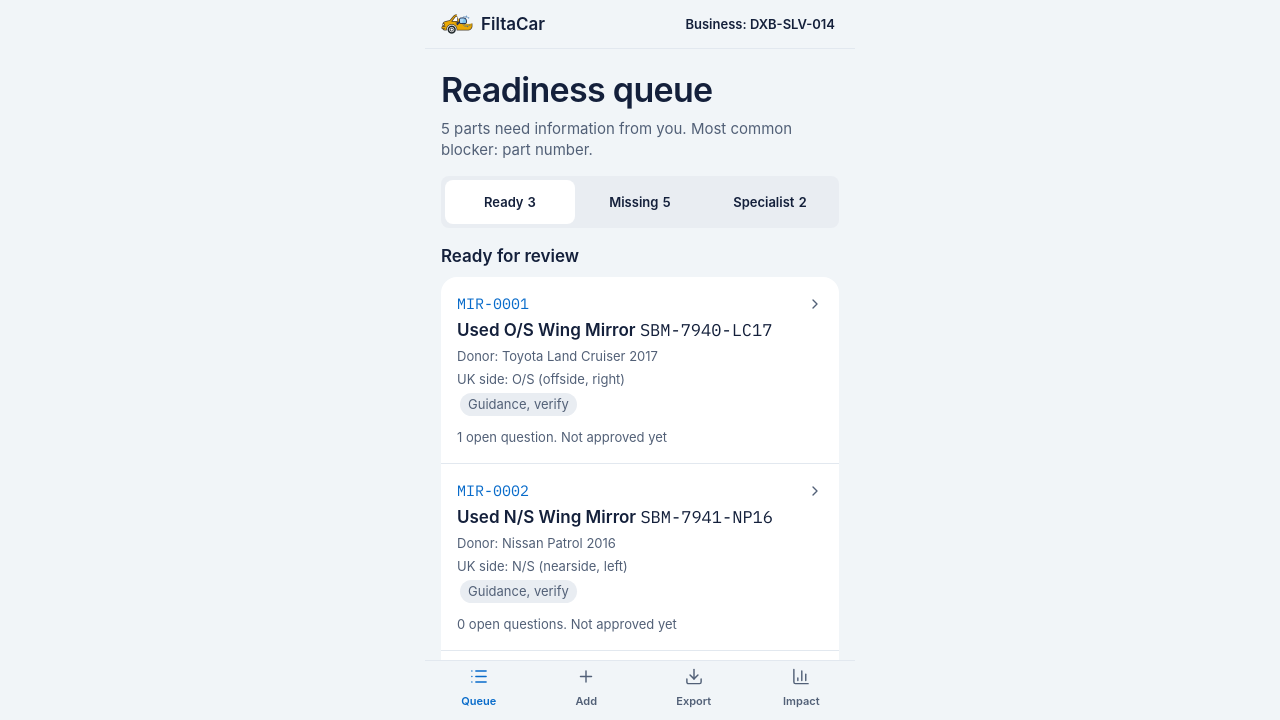
Test: keeps mode switching usable when localStorage reads and writes throw
expect the tab "Ready 3" is shown: met, box [445,180,575,224]
Click the button with aria-label "Business: DXB-SLV-014. Who is selling?" at (760, 24), box [682,2,839,46]
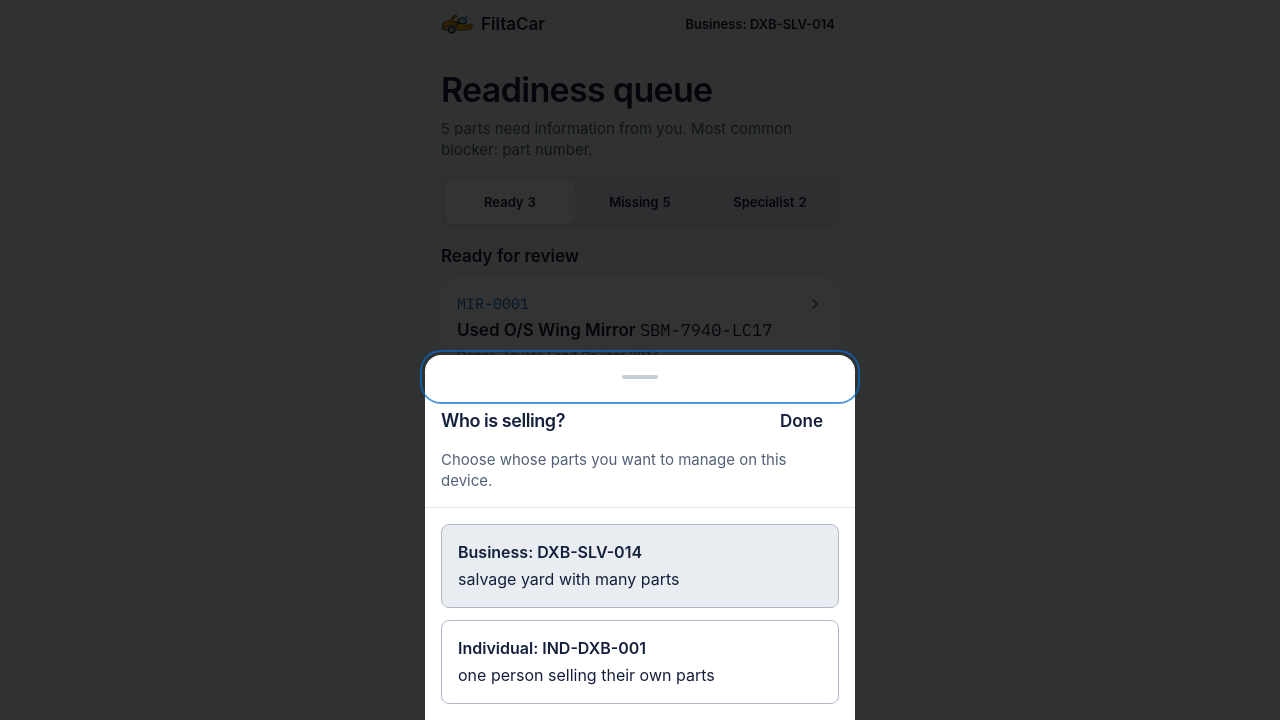
Click the radio button labelled "Individual: IND-DXB-001 one person selling their own parts" at (640, 662), box [441,620,839,704]
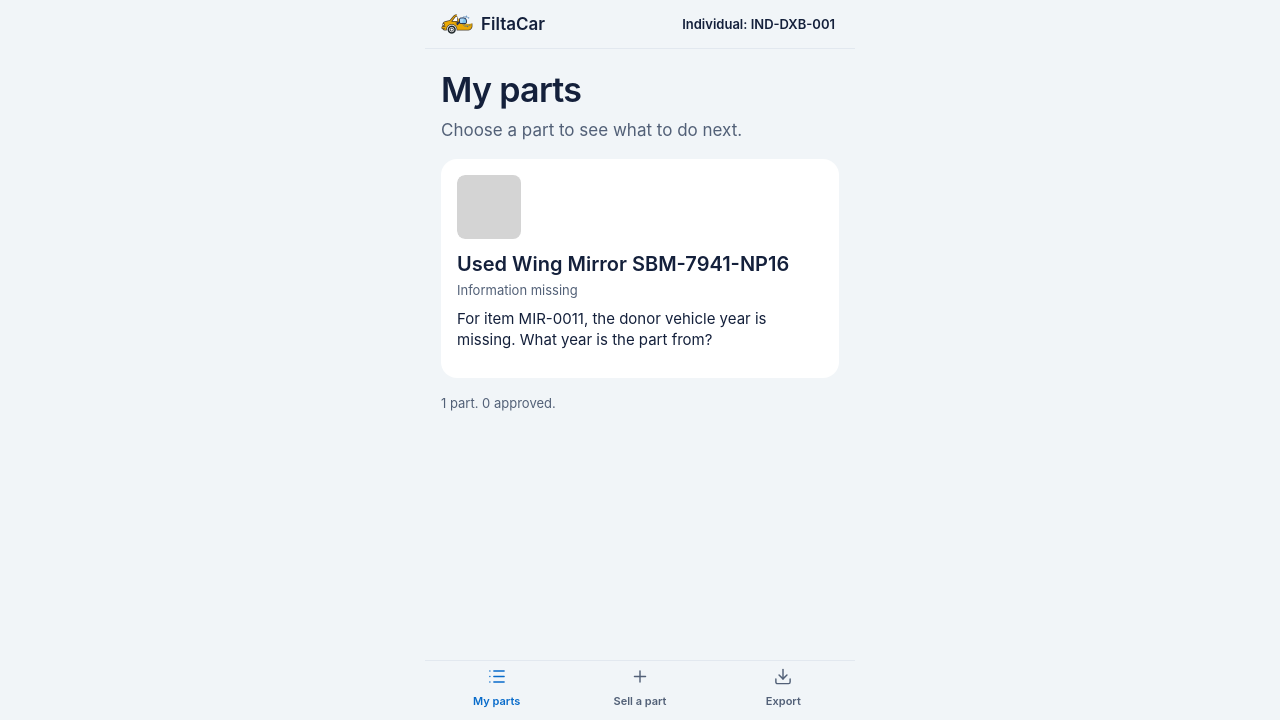
expect the dialog is gone: met
expect the heading "My parts" is shown: met, box [441,69,581,110]
expect the text "1 part. 0 approved." is shown: met, box [441,395,556,411]
